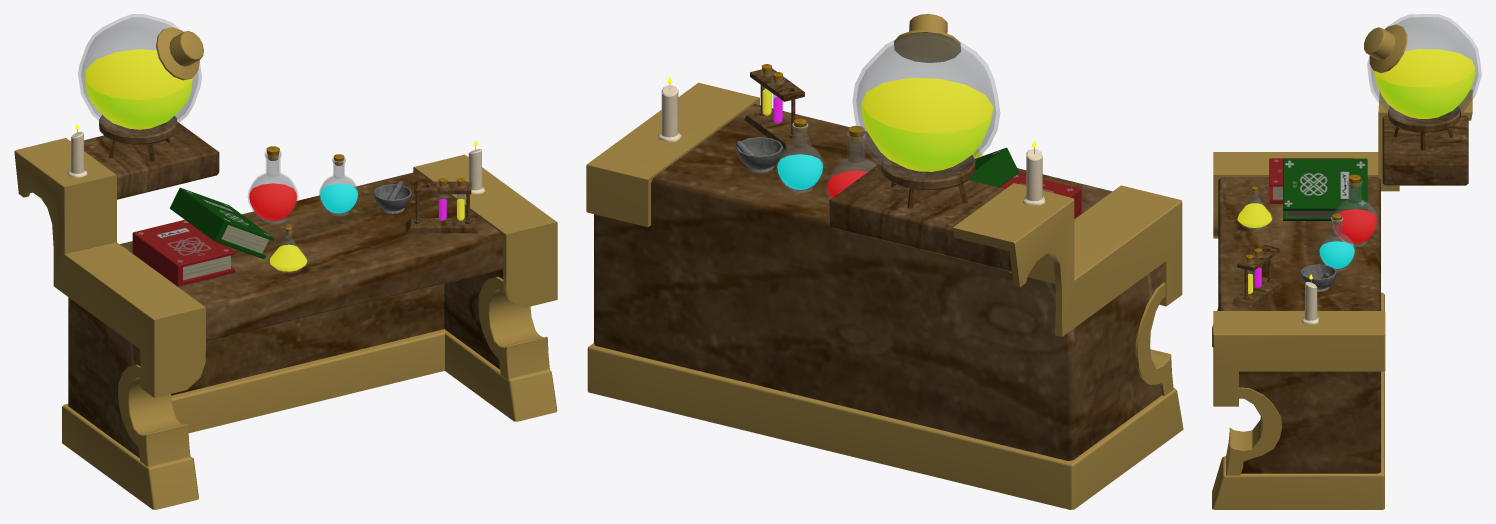
The model's file is alchemist_table.glb.
The picture shows the model from 3 angles, left to right: view 1: azimuth 30°, elevation 25°; view 2: azimuth 150°, elevation 25°; view 3: azimuth 270°, elevation 25°; orthographic projection. The views are drawn at different scales.
Parts seen in each view (by area): view 1: mesa_cuerpo_madera, mesa_base, borde_izquierda, frasco (×4), liquido (×4), borde_derecha, tabla_superior, libro_1, mesa_contorno_curva_der, mesa_contorno_curva_izq, libro_2, tapa (+6 smaller); view 2: mesa_cuerpo_madera, mesa_base, frasco (×3), borde_izquierda, liquido (×2), tabla_superior, borde_derecha, tapa, mesa_contorno_curva_izq, disco, libro_2, recipiente (+5 smaller); view 3: mesa_cuerpo_madera, frasco (×4), borde_derecha, liquido (×4), mesa_base, tabla_superior, libro_2, borde_izquierda, mesa_contorno_curva_der, tapa, disco, pCube1 (+4 smaller).
Boxes of the visible parts, x1=… form: mesa_cuerpo_madera: x1=68, y1=171, x2=503, y2=457; mesa_base: x1=62, y1=329, x2=557, y2=509; borde_izquierda: x1=14, y1=138, x2=205, y2=397; frasco (×4): x1=78, y1=14, x2=358, y2=273; liquido (×4): x1=85, y1=49, x2=357, y2=271; borde_derecha: x1=413, y1=154, x2=557, y2=307; tabla_superior: x1=84, y1=122, x2=219, y2=199; libro_1: x1=132, y1=219, x2=235, y2=286; mesa_contorno_curva_der: x1=478, y1=276, x2=549, y2=380; mesa_contorno_curva_izq: x1=118, y1=364, x2=190, y2=466; libro_2: x1=170, y1=187, x2=274, y2=258; tapa: x1=156, y1=27, x2=203, y2=80; mesa_cuerpo_madera: x1=594, y1=104, x2=1162, y2=460; mesa_base: x1=587, y1=343, x2=1183, y2=509; frasco (×3): x1=776, y1=33, x2=999, y2=199; borde_izquierda: x1=952, y1=183, x2=1182, y2=336; liquido (×2): x1=777, y1=78, x2=993, y2=189; tabla_superior: x1=829, y1=162, x2=1011, y2=271; borde_derecha: x1=586, y1=82, x2=759, y2=227; tapa: x1=894, y1=14, x2=960, y2=62; mesa_contorno_curva_izq: x1=1135, y1=283, x2=1173, y2=396; disco: x1=881, y1=155, x2=975, y2=189; libro_2: x1=969, y1=147, x2=1018, y2=187; recipiente: x1=736, y1=137, x2=783, y2=172; mesa_cuerpo_madera: x1=1218, y1=177, x2=1380, y2=473; frasco (×4): x1=1236, y1=14, x2=1481, y2=271; borde_derecha: x1=1213, y1=311, x2=1385, y2=406; liquido (×4): x1=1237, y1=49, x2=1474, y2=268; mesa_base: x1=1212, y1=292, x2=1384, y2=509; tabla_superior: x1=1382, y1=115, x2=1468, y2=185; libro_2: x1=1283, y1=158, x2=1367, y2=220; borde_izquierda: x1=1213, y1=89, x2=1472, y2=238; mesa_contorno_curva_der: x1=1226, y1=387, x2=1281, y2=475; tapa: x1=1364, y1=24, x2=1407, y2=72; disco: x1=1388, y1=106, x2=1460, y2=132; pCube1: x1=1232, y1=277, x2=1283, y2=309.
Size of the model in its own units: 103 by 92.59 by 63.94.
1 material, 1 textured.
